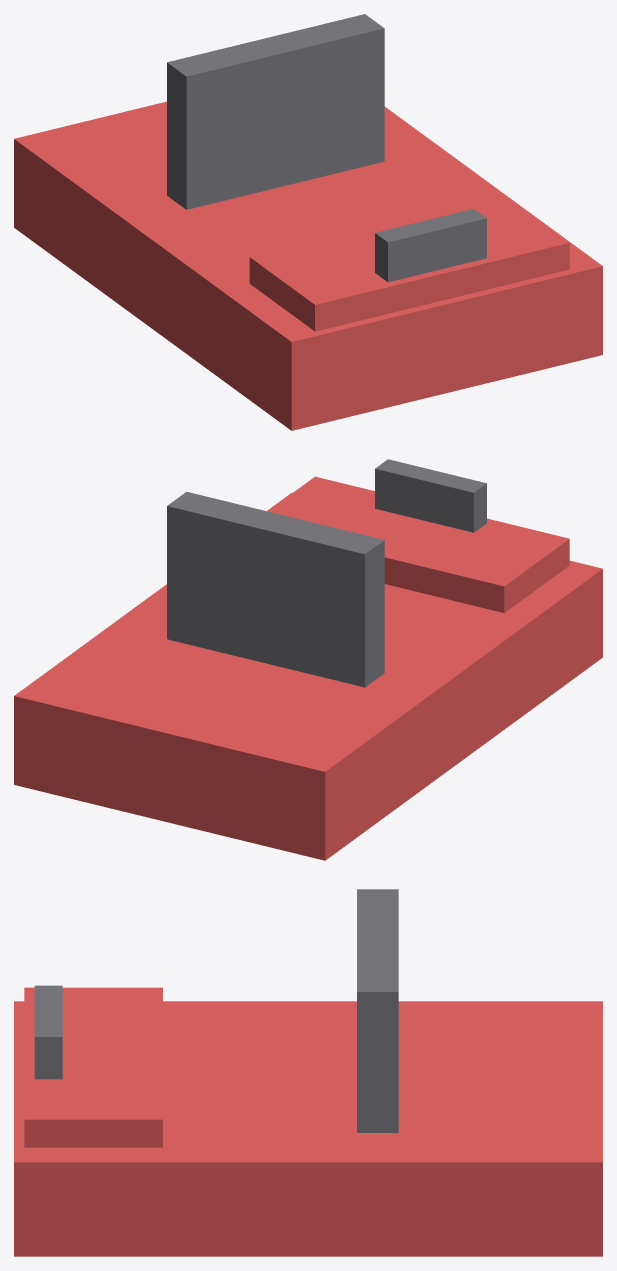
File: standard-kart.glb
3 renders of one model, top to bottom at view 1: azimuth 30°, elevation 25°; view 2: azimuth 150°, elevation 25°; view 3: azimuth 270°, elevation 25°, orthographic. The views are drawn at different scales.
Parts seen in each view (by area): view 1: standard-kart; view 2: standard-kart; view 3: standard-kart.
Boxes of the visible parts, x1,y1,x2,y2 form: standard-kart: (14,14,602,430); standard-kart: (14,459,602,860); standard-kart: (14,889,602,1256).
Size of the model in its own units: 1.1 by 0.75 by 1.7.
